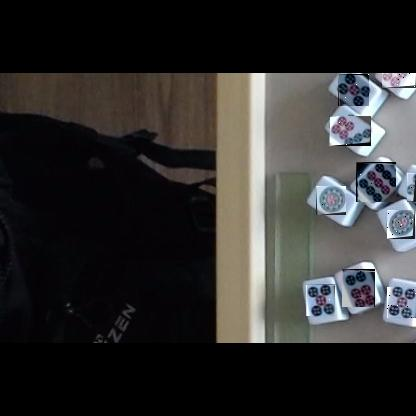1p: (316, 186, 346, 215), (387, 210, 415, 239)
4p: (407, 173, 416, 202)
5p: (338, 74, 369, 106), (306, 284, 335, 316), (387, 286, 416, 318)
6p: (342, 269, 375, 307), (382, 73, 416, 88)
7p: (329, 116, 371, 146)
9p: (356, 162, 396, 202)
